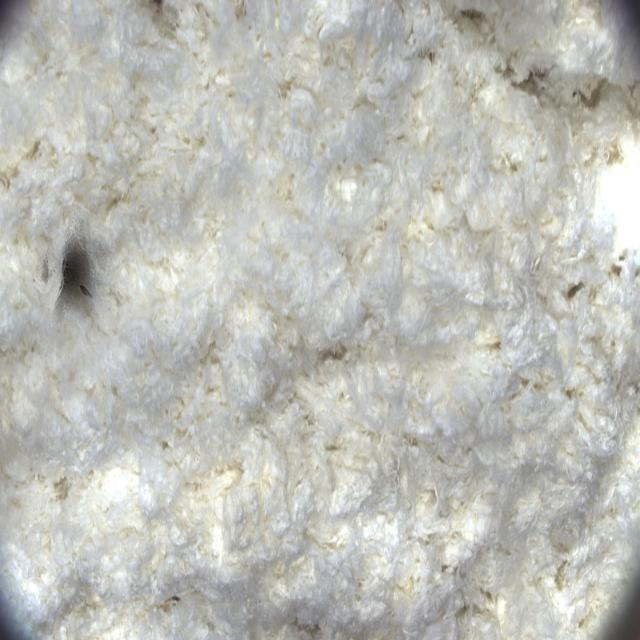dust: (20, 197, 141, 345)
